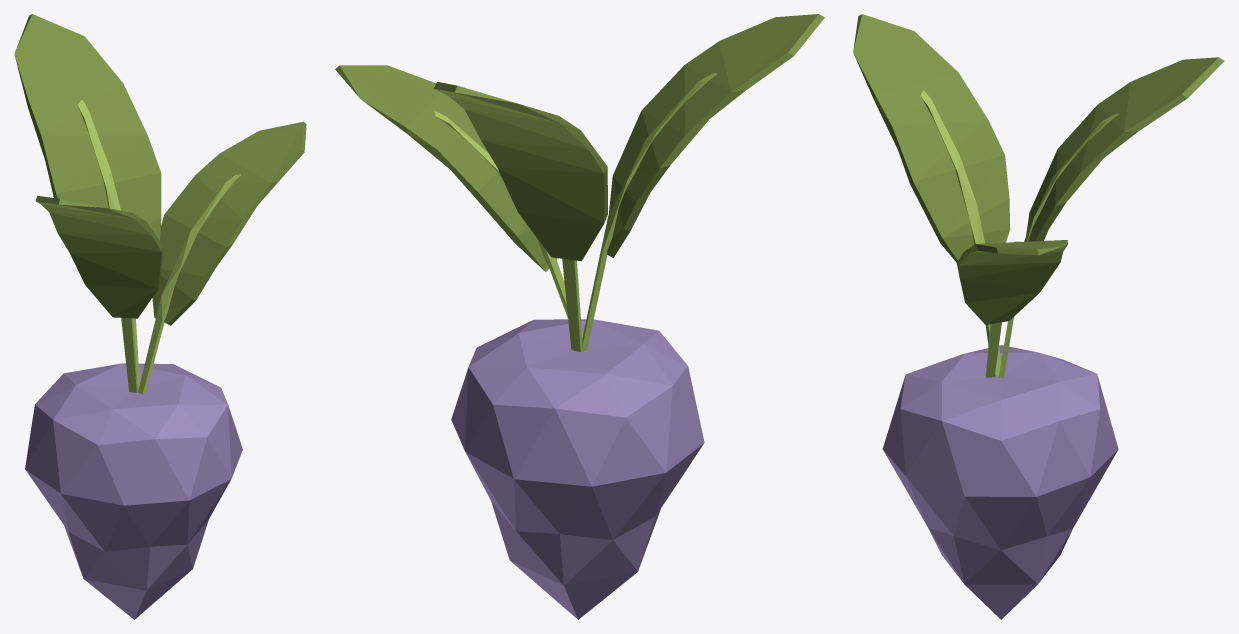
Rendered from Turnip_01.fbx.
The picture shows the model from 3 angles, left to right: view 1: azimuth 30°, elevation 25°; view 2: azimuth 150°, elevation 25°; view 3: azimuth 270°, elevation 25°; orthographic projection. The views are drawn at different scales.
Parts seen in each view (by area): view 1: Turnip_01; view 2: Turnip_01; view 3: Turnip_01.
Part boxes in pixels (x1,y1,x2,y2): Turnip_01: (14,14,306,619); Turnip_01: (335,14,824,619); Turnip_01: (853,14,1224,619).
Size of the model in its own units: 14.3 by 21.78 by 13.03.
